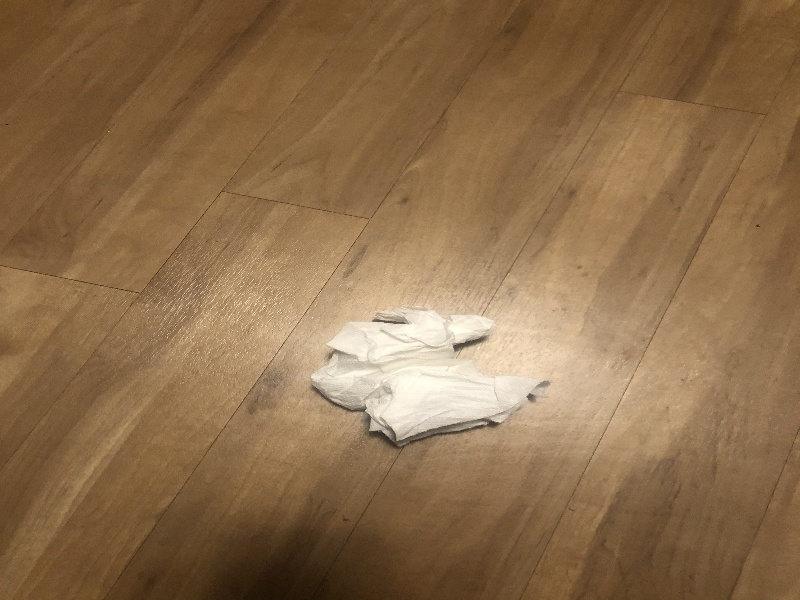paper: (306, 293, 565, 447)
